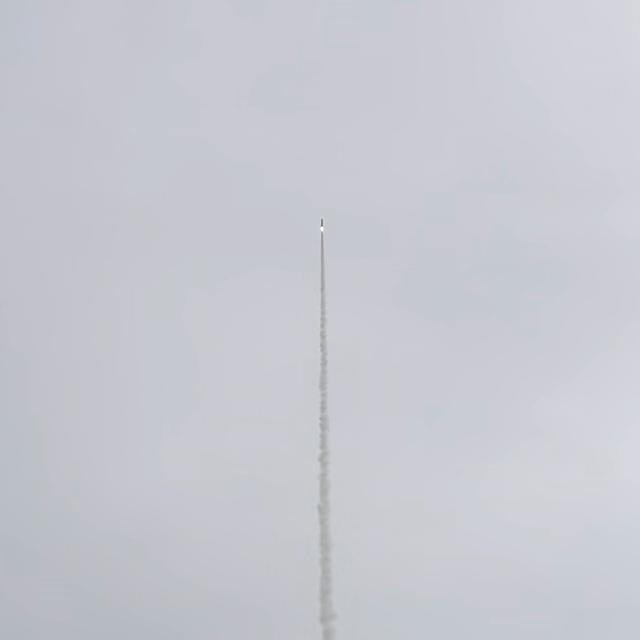smoke_trail_with_rocket: (317, 221, 333, 640)
